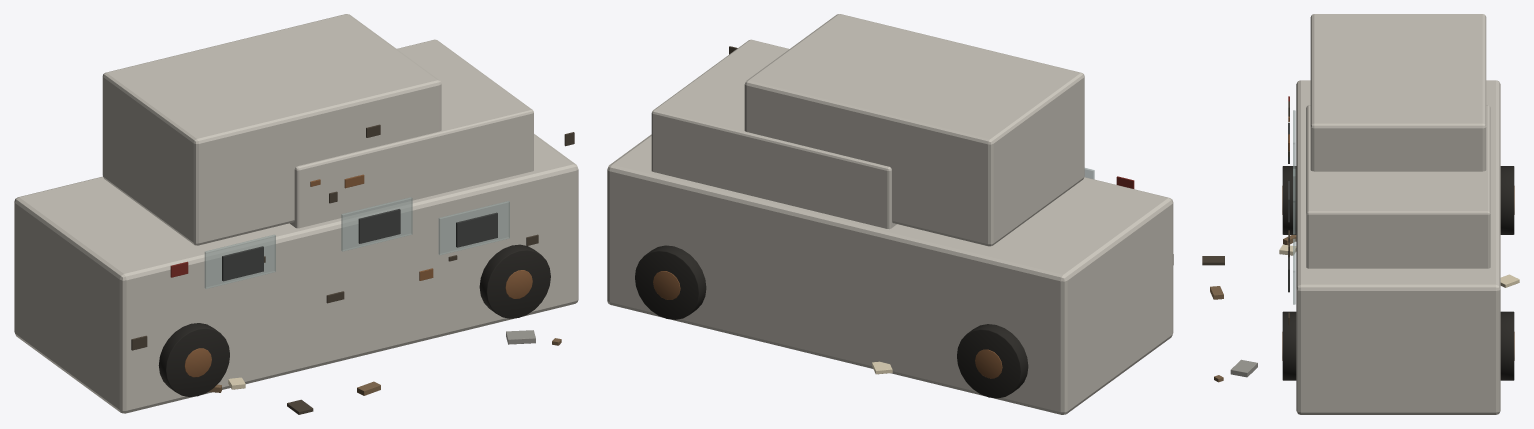
Rendered from dz_vehicle_delivery_van_broken_premium.glb.
3 renders of one model, left to right at view 1: azimuth 30°, elevation 25°; view 2: azimuth 150°, elevation 25°; view 3: azimuth 270°, elevation 25°, orthographic. The views are drawn at different scales.
Parts seen in each view (by area): view 1: vehicle_lower_body_dented, vehicle_cabin_crushed, box_rear_compartment, flat_muddy_tire_-1.645_-1.014, flat_muddy_tire_1.645_-1.014, broken_window_0.25, broken_window_1.25, broken_window_-1.15, window_hole_shadow_0.25, window_hole_shadow_-1.15, window_hole_shadow_1.25, rusted_wheel_hub_-1.645_-1.014 (+1 smaller); view 2: vehicle_lower_body_dented, vehicle_cabin_crushed, box_rear_compartment, flat_muddy_tire_-1.645_1.014, flat_muddy_tire_1.645_1.014, rusted_wheel_hub_-1.645_1.014, rusted_wheel_hub_1.645_1.014; view 3: vehicle_lower_body_dented, vehicle_cabin_crushed, box_rear_compartment, flat_muddy_tire_1.645_1.014, flat_muddy_tire_-1.645_1.014, flat_muddy_tire_1.645_-1.014, flat_muddy_tire_-1.645_-1.014, vehicle_debris_00.
Part boxes in pixels (x1,y1,x2,y2): vehicle_lower_body_dented: [14, 134, 578, 413]; vehicle_cabin_crushed: [102, 14, 441, 245]; box_rear_compartment: [290, 39, 533, 228]; flat_muddy_tire_-1.645_-1.014: [158, 323, 229, 396]; flat_muddy_tire_1.645_-1.014: [479, 244, 550, 318]; broken_window_0.25: [341, 197, 412, 251]; broken_window_1.25: [438, 201, 509, 255]; broken_window_-1.15: [204, 234, 275, 288]; window_hole_shadow_0.25: [358, 209, 400, 243]; window_hole_shadow_-1.15: [222, 246, 263, 281]; window_hole_shadow_1.25: [456, 212, 497, 247]; rusted_wheel_hub_-1.645_-1.014: [184, 348, 211, 377]; vehicle_lower_body_dented: [607, 134, 1173, 414]; vehicle_cabin_crushed: [744, 14, 1084, 246]; box_rear_compartment: [651, 39, 896, 229]; flat_muddy_tire_-1.645_1.014: [957, 324, 1028, 398]; flat_muddy_tire_1.645_1.014: [635, 245, 706, 319]; rusted_wheel_hub_-1.645_1.014: [975, 349, 1002, 378]; rusted_wheel_hub_1.645_1.014: [653, 271, 680, 299]; vehicle_lower_body_dented: [1296, 80, 1500, 414]; vehicle_cabin_crushed: [1310, 14, 1486, 171]; box_rear_compartment: [1306, 105, 1490, 268]; flat_muddy_tire_1.645_1.014: [1500, 311, 1514, 380]; flat_muddy_tire_-1.645_1.014: [1500, 166, 1514, 234]; flat_muddy_tire_1.645_-1.014: [1282, 311, 1296, 380]; flat_muddy_tire_-1.645_-1.014: [1282, 166, 1296, 234]; vehicle_debris_00: [1230, 359, 1257, 377].
Size of the model in its own units: 4.7 by 2.45 by 3.03.
